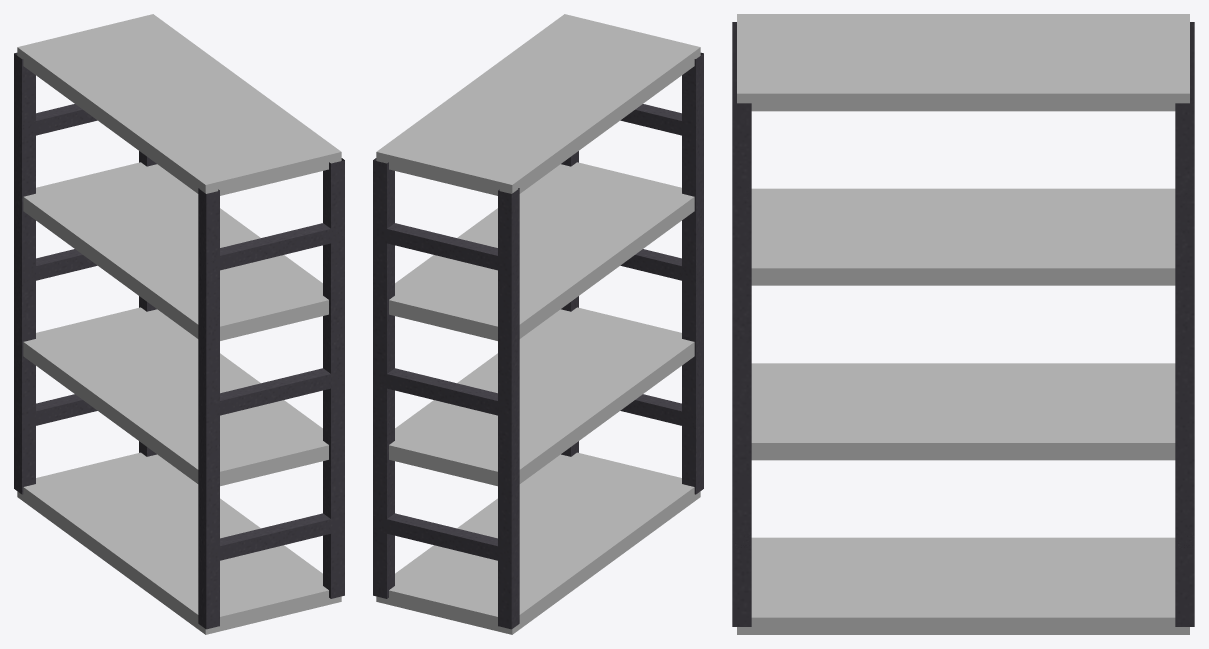
Rendered from StorageRack-Triple.fbx.
3 renders of one model, left to right at view 1: azimuth 30°, elevation 25°; view 2: azimuth 150°, elevation 25°; view 3: azimuth 270°, elevation 25°, orthographic. The views are drawn at different scales.
Visible parts, largest first — view 1: Shelf-roof, Shelf-floor, Shelf-3-u, Shelf-3-b, Pilar.001, Pilar.003, Pilar, crossbar-3-l-u, crossbar-3-l-m, crossbar-3-l-b, crossbar-3-r-u, crossbar-3-r-m (+1 smaller); view 2: Shelf-roof, Shelf-floor, Shelf-3-u, Shelf-3-b, Pilar.003, Pilar.002, Pilar.001, crossbar-3-r-b, crossbar-3-r-m, crossbar-3-r-u, crossbar-3-l-b, crossbar-3-l-m (+1 smaller); view 3: Shelf-roof, Shelf-floor, Shelf-3-b, Shelf-3-u, Pilar, Pilar.002.
Boxes of the visible parts, bbox=[...] form: Shelf-roof: bbox=[17, 14, 341, 195]; Shelf-floor: bbox=[17, 452, 341, 634]; Shelf-3-u: bbox=[23, 162, 328, 340]; Shelf-3-b: bbox=[23, 307, 328, 486]; Pilar.001: bbox=[198, 188, 219, 629]; Pilar.003: bbox=[14, 52, 35, 494]; Pilar: bbox=[323, 158, 344, 598]; crossbar-3-l-u: bbox=[200, 223, 344, 273]; crossbar-3-l-m: bbox=[204, 368, 344, 417]; crossbar-3-l-b: bbox=[205, 513, 330, 560]; crossbar-3-r-u: bbox=[22, 104, 97, 138]; crossbar-3-r-m: bbox=[22, 249, 97, 283]; Shelf-roof: bbox=[376, 14, 700, 195]; Shelf-floor: bbox=[376, 452, 700, 634]; Shelf-3-u: bbox=[389, 162, 694, 340]; Shelf-3-b: bbox=[389, 307, 694, 486]; Pilar.003: bbox=[498, 188, 519, 629]; Pilar.002: bbox=[373, 158, 394, 598]; Pilar.001: bbox=[682, 52, 703, 494]; crossbar-3-r-b: bbox=[373, 513, 519, 563]; crossbar-3-r-m: bbox=[373, 368, 518, 416]; crossbar-3-r-u: bbox=[387, 223, 513, 270]; crossbar-3-l-b: bbox=[620, 394, 700, 429]; crossbar-3-l-m: bbox=[620, 249, 698, 283]; Shelf-roof: bbox=[737, 14, 1189, 111]; Shelf-floor: bbox=[737, 537, 1189, 634]; Shelf-3-b: bbox=[751, 363, 1175, 460]; Shelf-3-u: bbox=[751, 188, 1175, 285]; Pilar: bbox=[732, 95, 751, 626]; Pilar.002: bbox=[1175, 95, 1194, 626].
Bounding box in the file's own units: 100 × 310 × 240.
